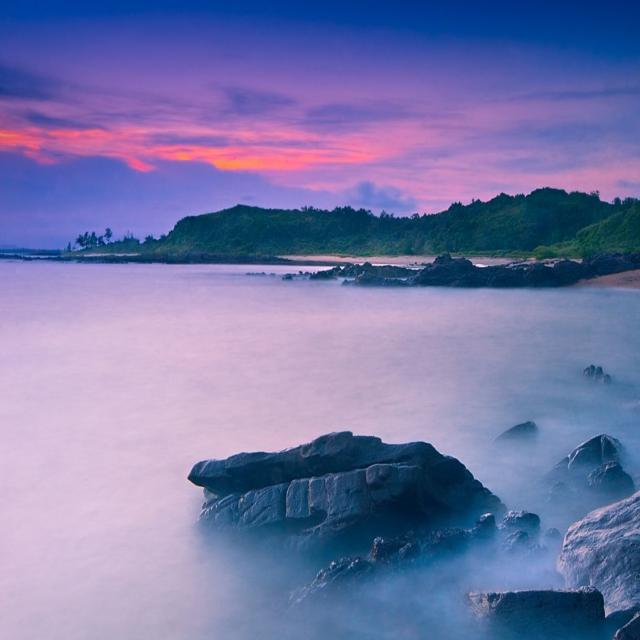island: (61, 168, 639, 297)
